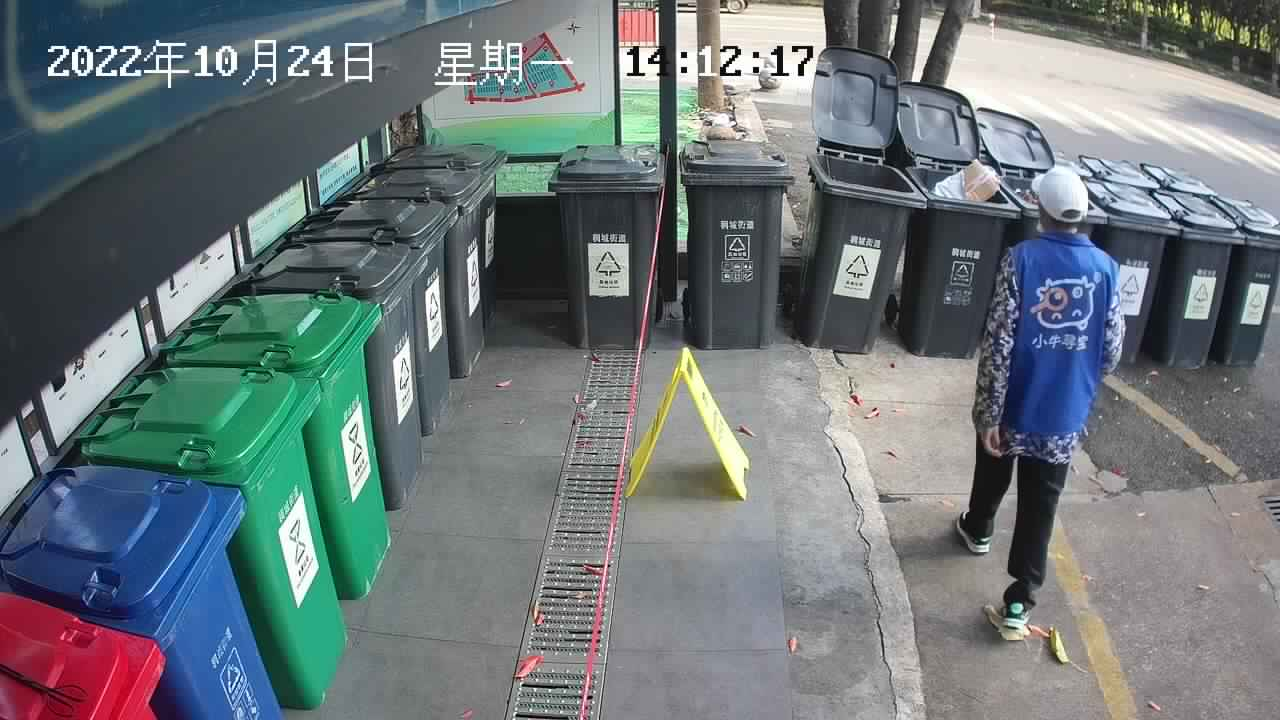worker: (950, 160, 1134, 637)
